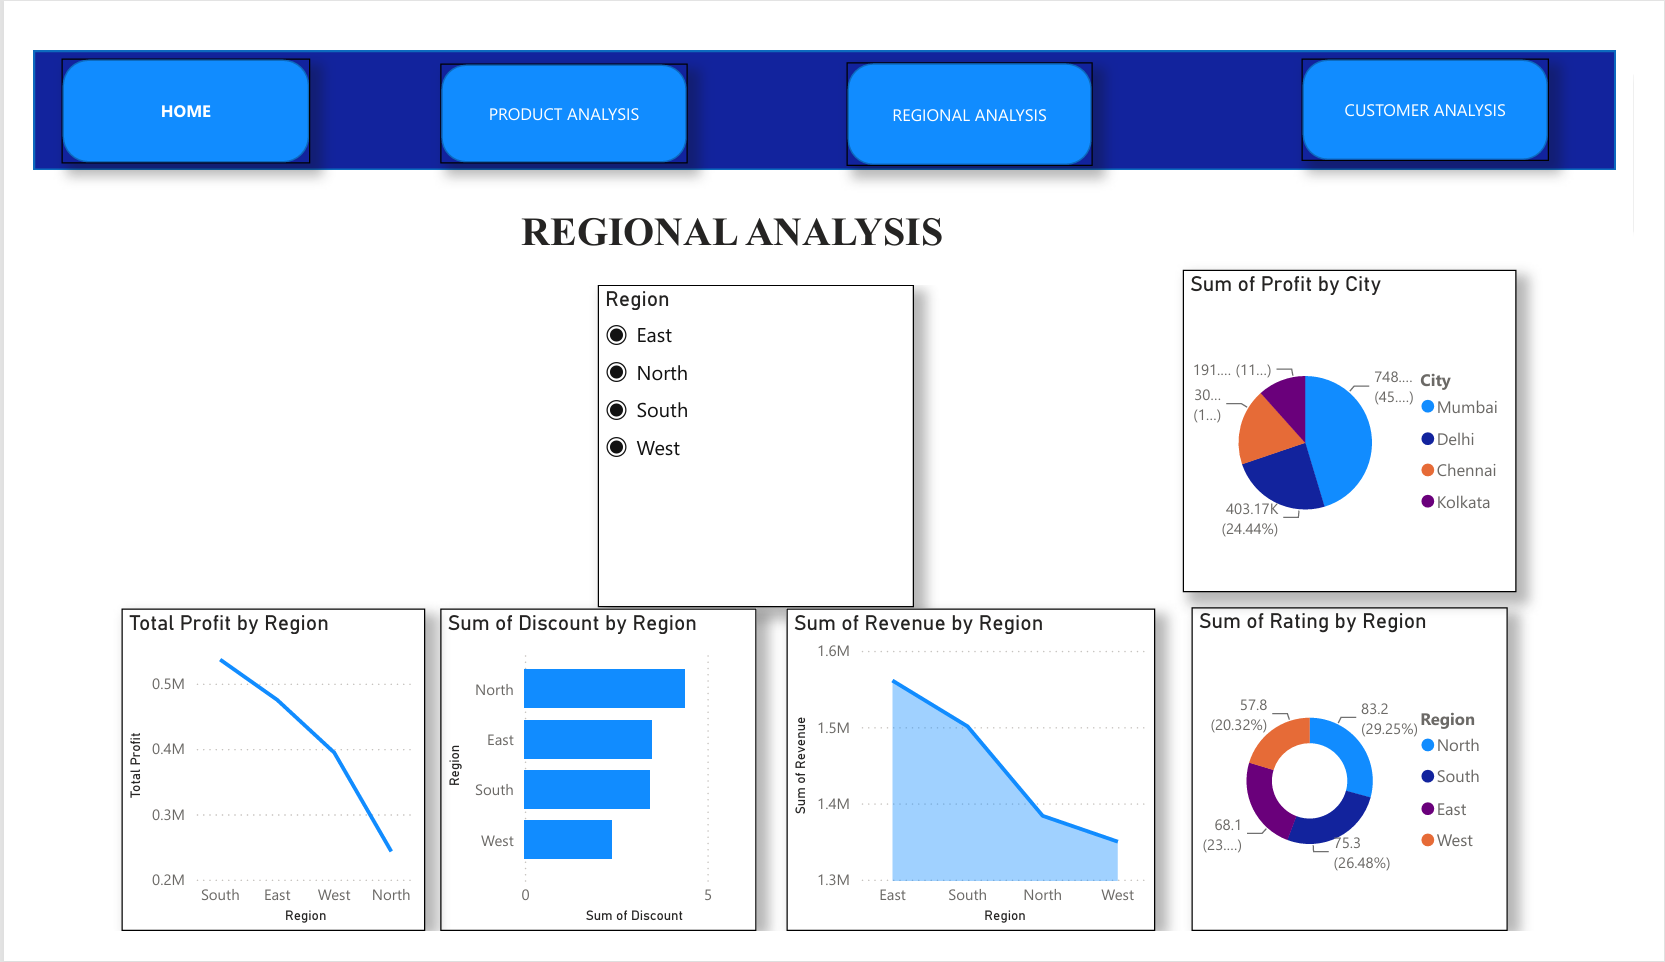

What the dashboard file says about the page in this screenshot:
{"tool":"powerbi","page":{"name":"Page 3","canvas":[1280,720],"ordinal":2},"visuals":[{"type":"listSlicer","fields":{"Values":["clinic.Region"]},"box":[451.5,203.1,252.5,258],"z":0},{"type":"barChart","fields":{"Category":["clinic.Region"],"Y":["Sum(clinic.Discount)"]},"box":[325.2,462.4,252.5,258],"z":1000},{"type":"stackedAreaChart","fields":{"Category":["clinic.Region"],"Y":["Sum(clinic.Revenue)"]},"box":[602.4,462.4,295,258],"z":2000},{"type":"donutChart","fields":{"Category":["clinic.Region"],"Y":["Sum(clinic.Rating)"]},"box":[926.2,461.1,252.5,259.3],"z":3000},{"type":"lineChart","fields":{"Category":["clinic.Region"],"Y":["clinic.Total Profit"]},"box":[70,462.4,242.9,258],"z":4000},{"type":"shape","box":[0,16.5,1265.2,94.7],"z":5000},{"type":"shape","box":[22,22,199,83.7],"z":6000},{"type":"shape","box":[325.2,26.1,197.6,79.6],"z":7000},{"type":"shape","box":[650.4,24.7,196.2,83.7],"z":8000},{"type":"shape","box":[1014.1,22,197.6,82.3],"z":9000},{"type":"textbox","box":[13.7,137.2,1089.5,65.9],"z":10000},{"type":"pieChart","fields":{"Category":["clinic.City"],"Y":["Sum(clinic.Profit)"]},"box":[919.4,190.7,266.2,258],"z":11000}]}

Visuals, with their boxes in screenshot pixels (x1, y1, x2, y2), scaled from the page's 1280x720 canvas onto the 1665x962 screenshot:
listSlicer - clinic.Region: {"x1": 587, "y1": 271, "x2": 916, "y2": 616}
barChart - clinic.Region x Sum(clinic.Discount): {"x1": 423, "y1": 618, "x2": 751, "y2": 961}
stackedAreaChart - clinic.Region x Sum(clinic.Revenue): {"x1": 784, "y1": 618, "x2": 1167, "y2": 961}
donutChart - clinic.Region x Sum(clinic.Rating): {"x1": 1205, "y1": 616, "x2": 1533, "y2": 961}
lineChart - clinic.Region x clinic.Total Profit: {"x1": 91, "y1": 618, "x2": 407, "y2": 961}
shape: {"x1": 0, "y1": 22, "x2": 1646, "y2": 149}
shape: {"x1": 29, "y1": 29, "x2": 287, "y2": 141}
shape: {"x1": 423, "y1": 35, "x2": 680, "y2": 141}
shape: {"x1": 846, "y1": 33, "x2": 1101, "y2": 145}
shape: {"x1": 1319, "y1": 29, "x2": 1576, "y2": 139}
textbox: {"x1": 18, "y1": 183, "x2": 1435, "y2": 271}
pieChart - clinic.City x Sum(clinic.Profit): {"x1": 1196, "y1": 255, "x2": 1542, "y2": 600}
